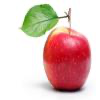Apple leaf: (18, 2, 61, 40)
